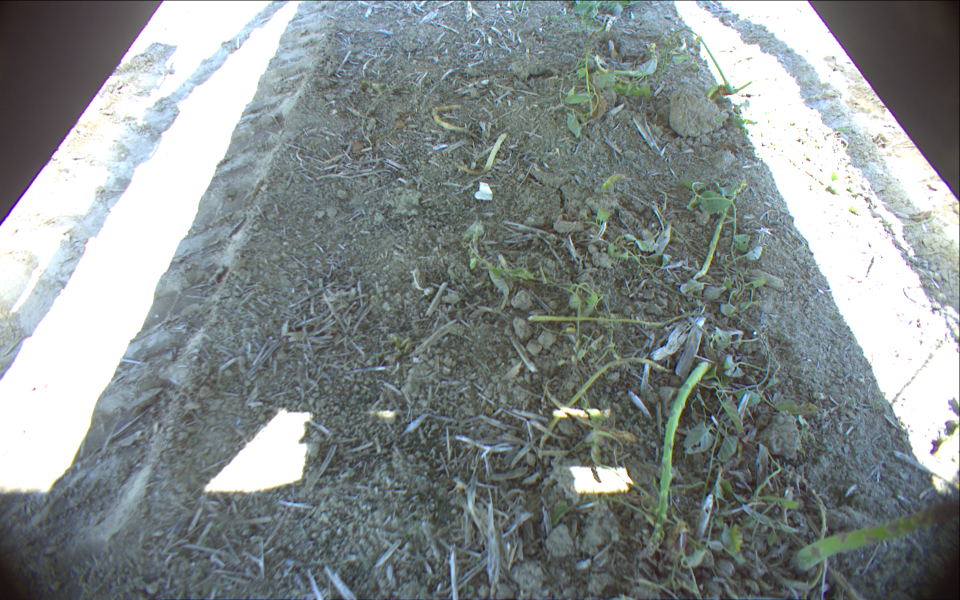aspa: (790, 495, 960, 578)
